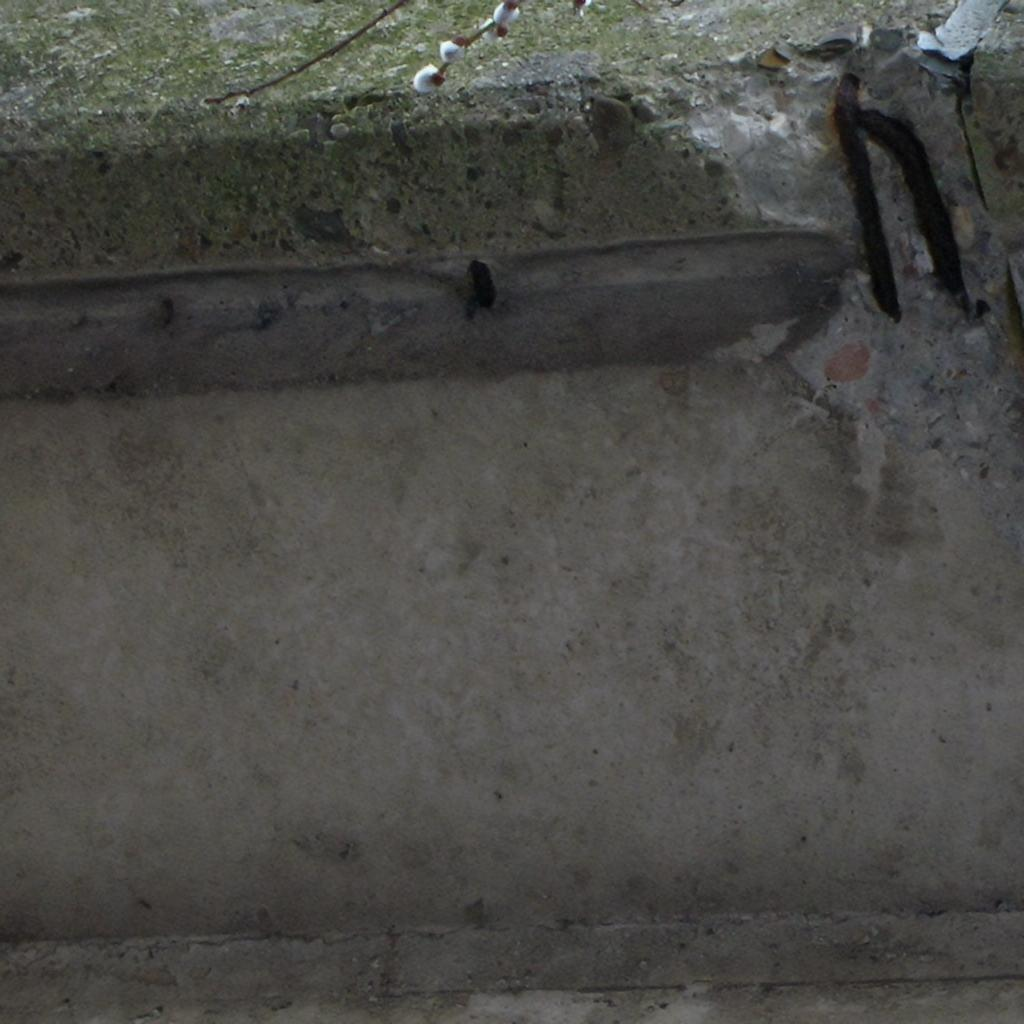exposed_rebar: (834, 74, 970, 319)
spalling: (632, 28, 1024, 545)
